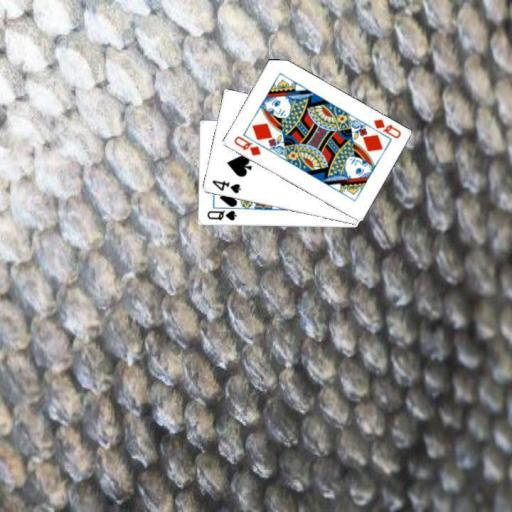card-corner: (230, 133, 262, 157), (370, 116, 402, 140), (209, 177, 242, 195), (204, 208, 238, 222)
